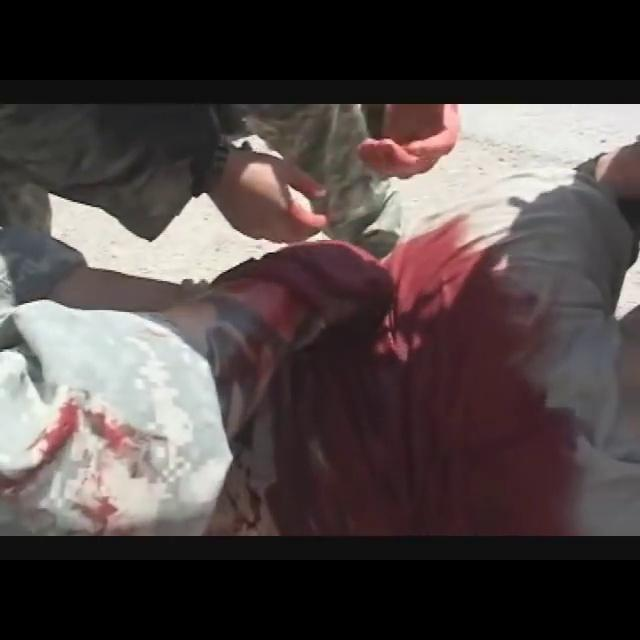blood: (166, 217, 577, 536)
